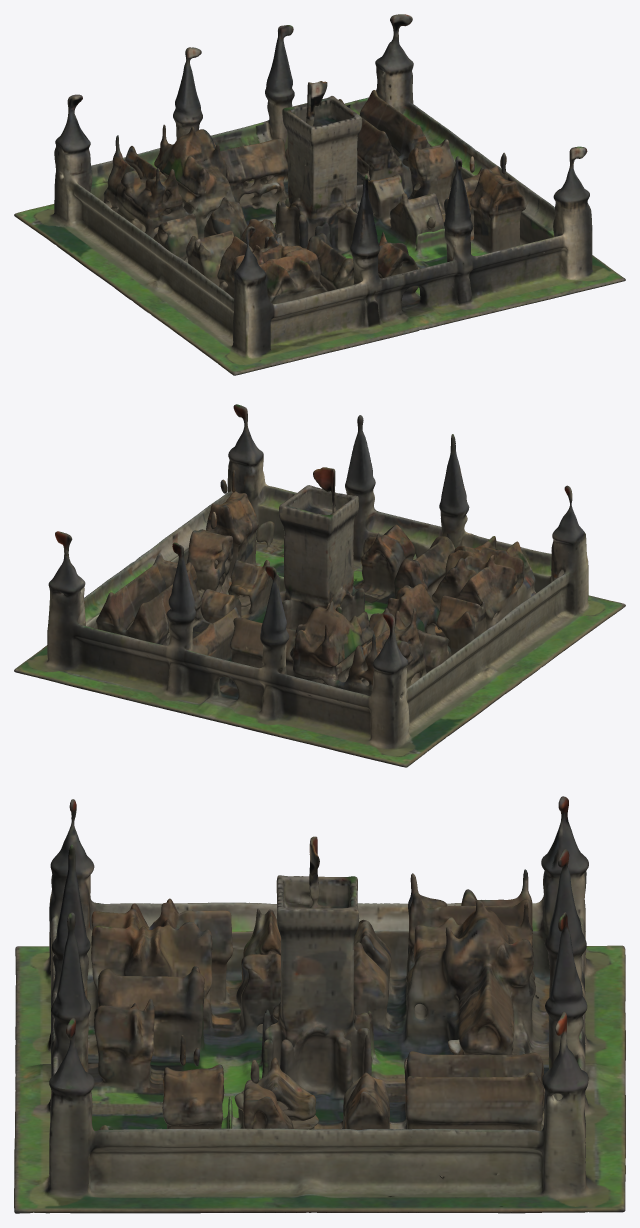
Rendered from feudal_city_with_a_ke_0303164841_texture.fbx.
The picture shows the model from 3 angles, top to bottom: view 1: azimuth 30°, elevation 25°; view 2: azimuth 150°, elevation 25°; view 3: azimuth 270°, elevation 25°; orthographic projection. The views are drawn at different scales.
Parts seen in each view (by area): view 1: Mesh1_Mesh1.049; view 2: Mesh1_Mesh1.049; view 3: Mesh1_Mesh1.049.
Boxes of the visible parts, x1=… form: Mesh1_Mesh1.049: x1=14, y1=14, x2=625, y2=375; Mesh1_Mesh1.049: x1=14, y1=404, x2=625, y2=767; Mesh1_Mesh1.049: x1=14, y1=796, x2=625, y2=1213.
Size of the model in its own units: 201 by 83.58 by 195.
1 material, 1 textured.
